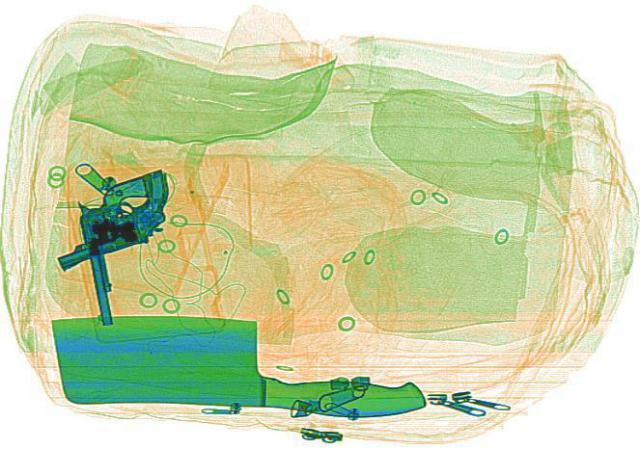Gun: (66, 170, 196, 323), (16, 166, 206, 269)
Knife: (49, 312, 425, 416)
